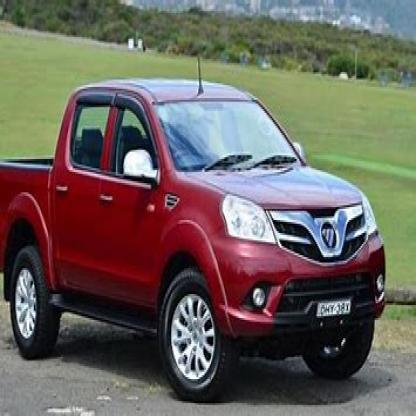light_vehicle: (1, 65, 401, 414)
